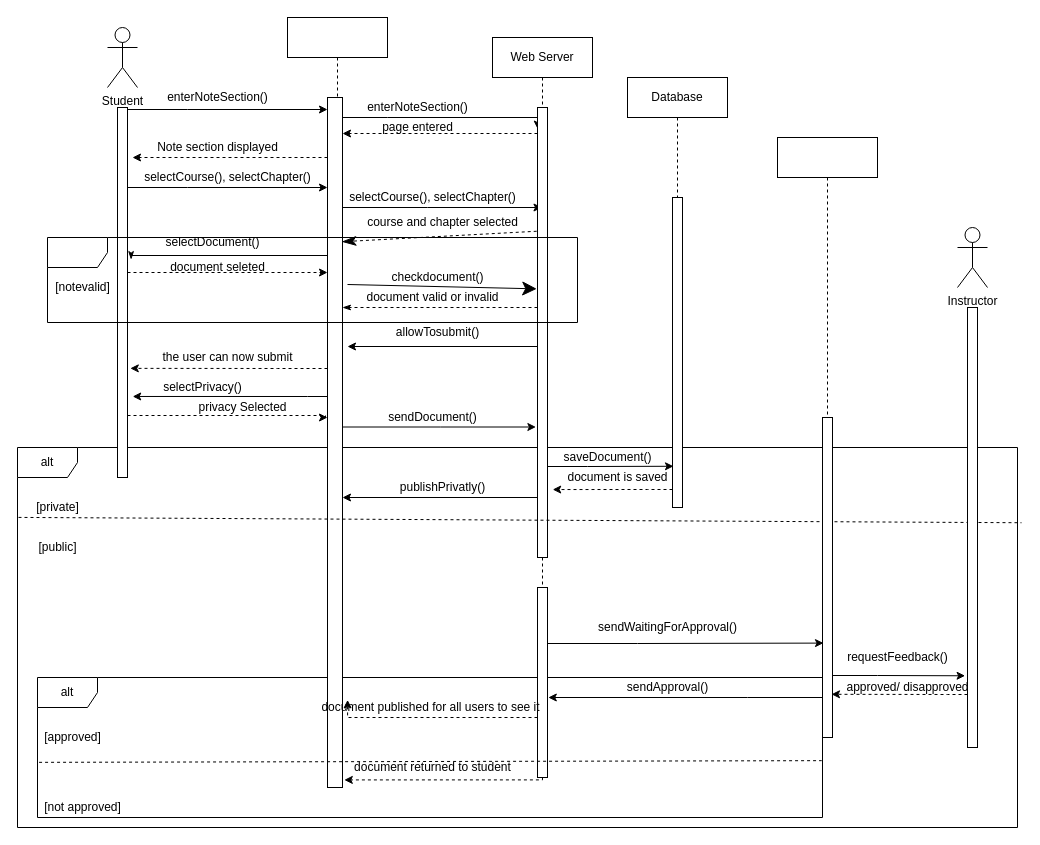
The diagram is 1040 pixels wide and 845 high, and some of its shapes have lost their labels. Each missing label, with the box of its shape:
Instructor GUI: (776, 136, 878, 738)
loop: (46, 236, 578, 322)
Student GUI class: (286, 16, 388, 98)
